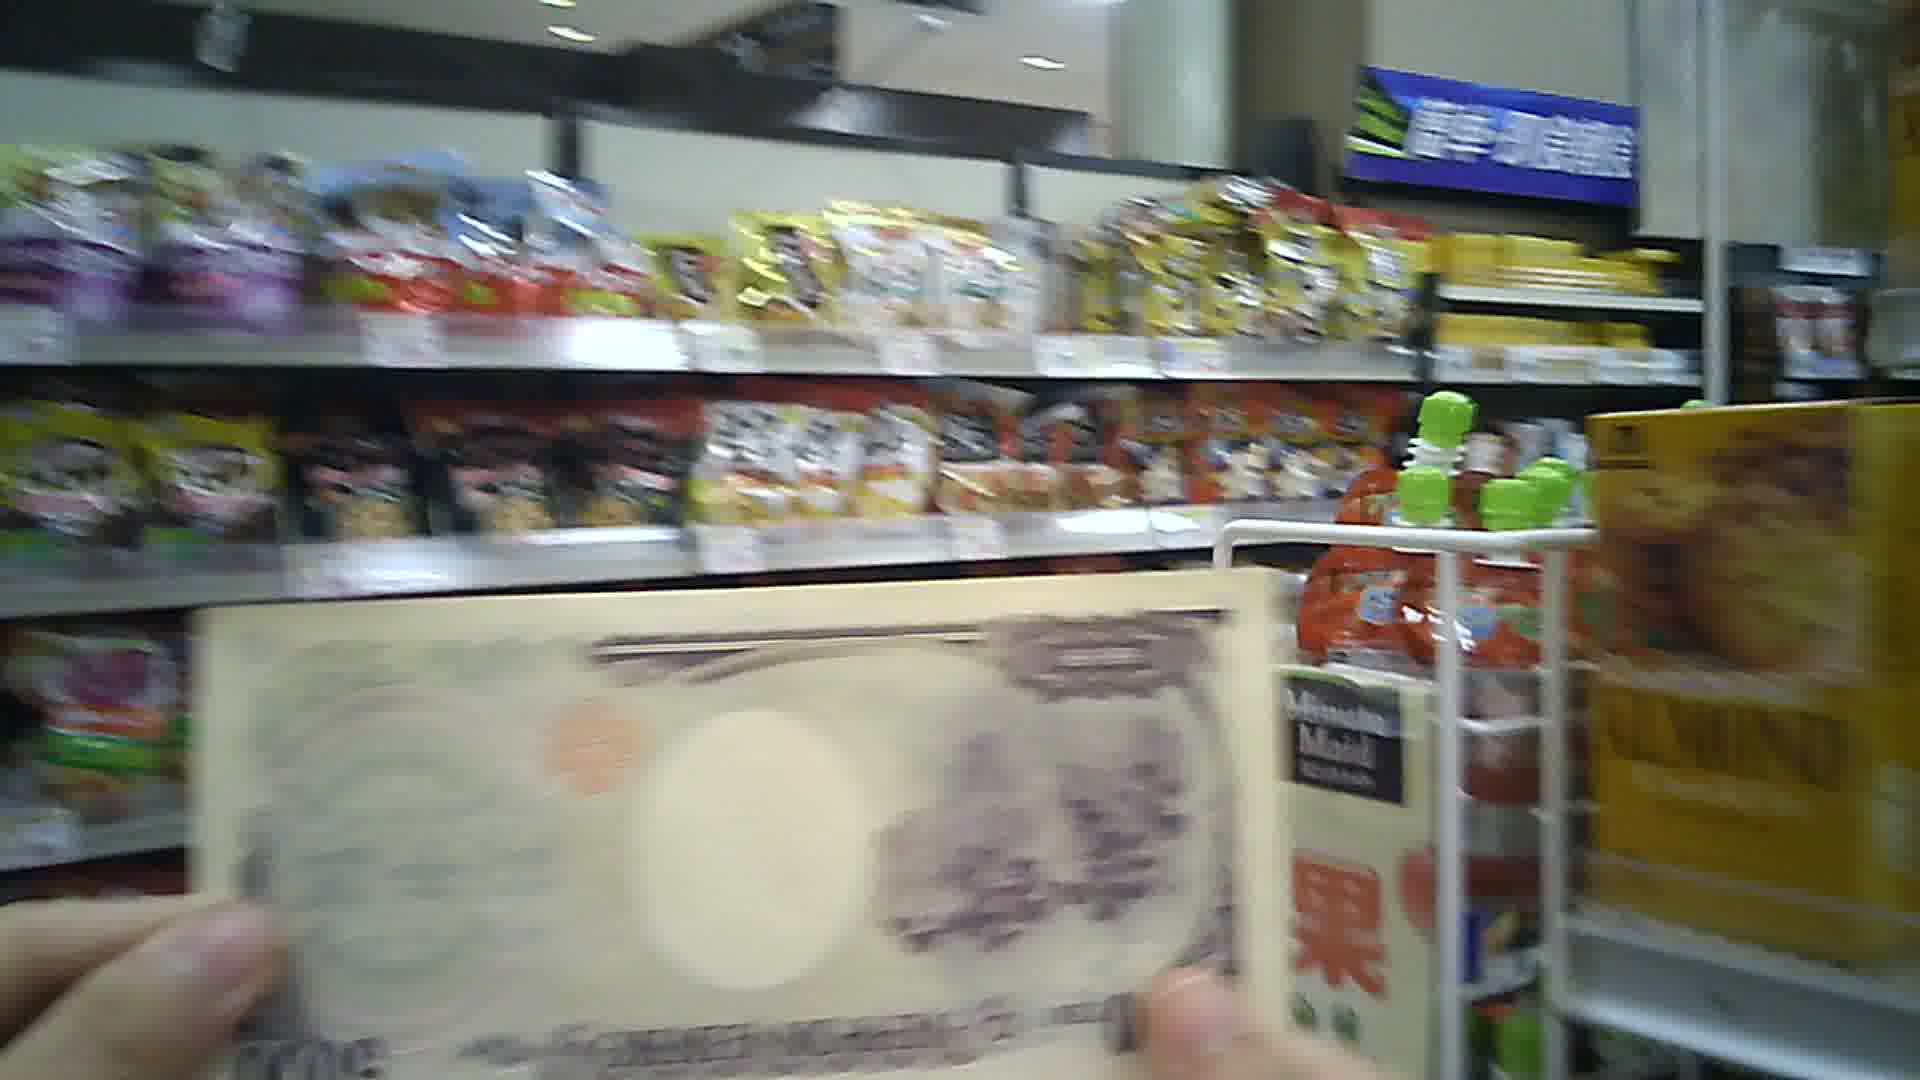5,000 Yen: (185, 570, 1303, 1079)
